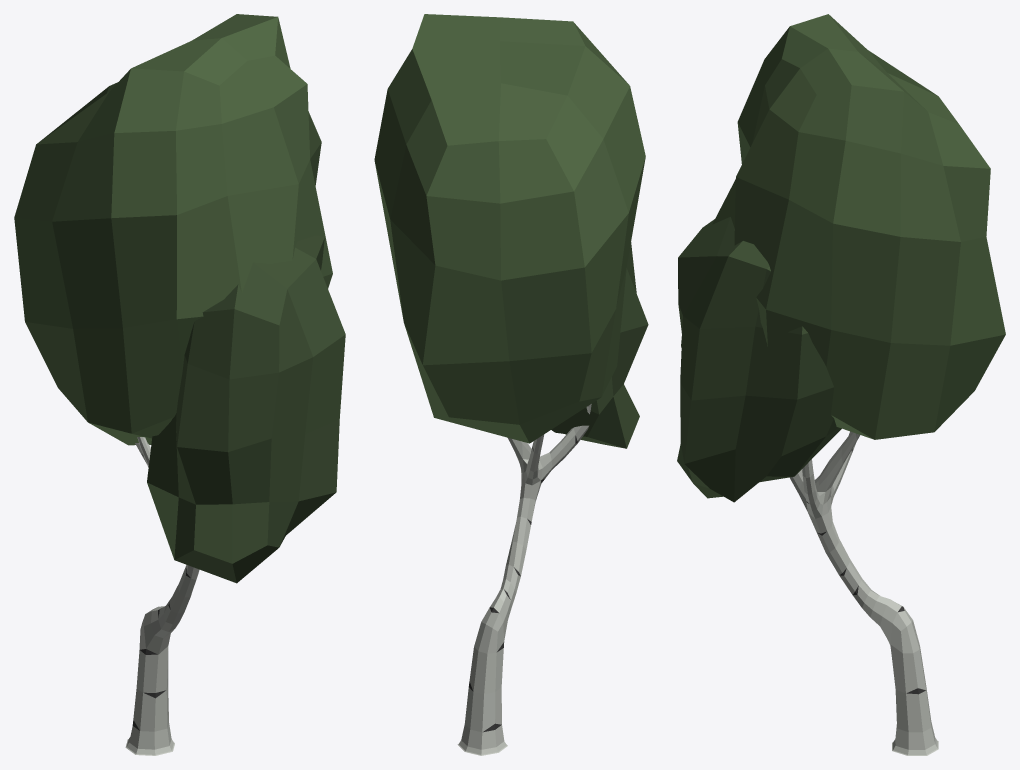
File: BirchTree_2.glb
3 views of the same model, side by side, from view 1: azimuth 30°, elevation 25°; view 2: azimuth 150°, elevation 25°; view 3: azimuth 270°, elevation 25° (orthographic). The views are drawn at different scales.
Visible parts, largest first — view 1: BirchTree_2_Cube.064; view 2: BirchTree_2_Cube.064; view 3: BirchTree_2_Cube.064.
Boxes of the visible parts, <box> form: BirchTree_2_Cube.064: <box>14,14,345,755</box>; BirchTree_2_Cube.064: <box>374,14,648,755</box>; BirchTree_2_Cube.064: <box>677,14,1005,755</box>.
Bounding box in the file's own units: 1.47 × 4.03 × 1.69.
